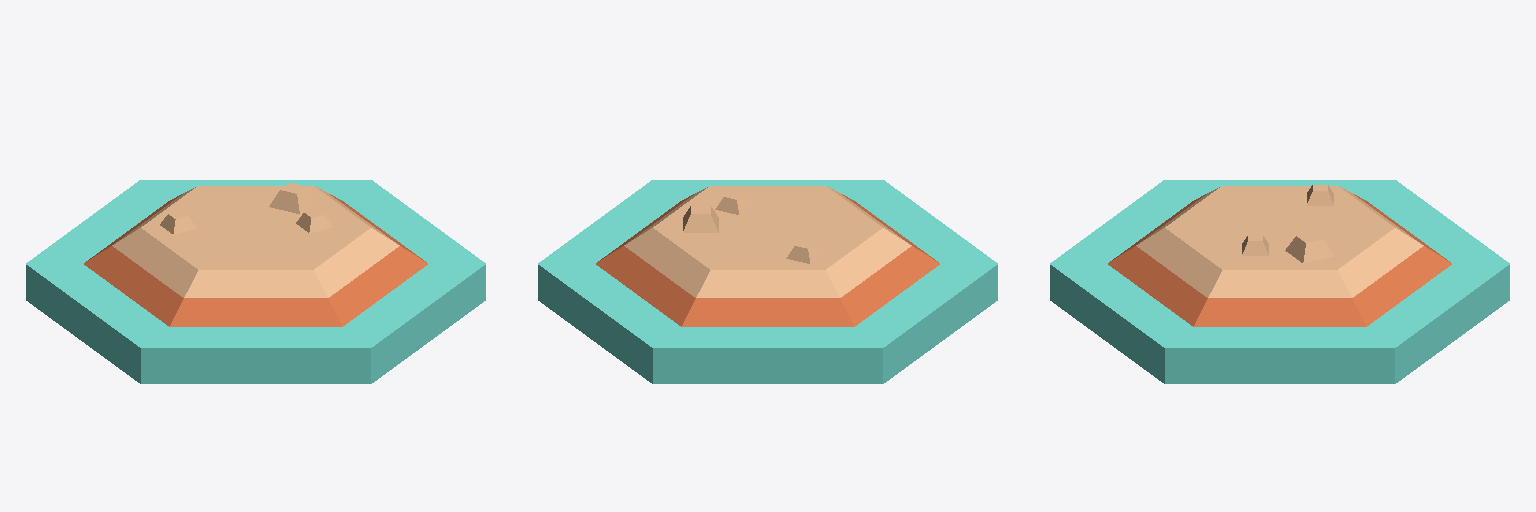
The model's file is water_island.obj.
3 views of the same model, side by side, from view 1: azimuth 30°, elevation 25°; view 2: azimuth 150°, elevation 25°; view 3: azimuth 270°, elevation 25° (orthographic).
Visible parts, largest first — view 1: water_island, rock; view 2: water_island, rock; view 3: water_island, rock.
Part boxes in pixels (x1,y1,x2,y2): water_island: (26, 180, 485, 383); rock: (160, 183, 332, 234); water_island: (538, 180, 997, 383); rock: (683, 191, 823, 263); water_island: (1050, 180, 1509, 383); rock: (1242, 185, 1333, 263).
Bounding box in the file's own units: 1 × 0.2435 × 1.15.